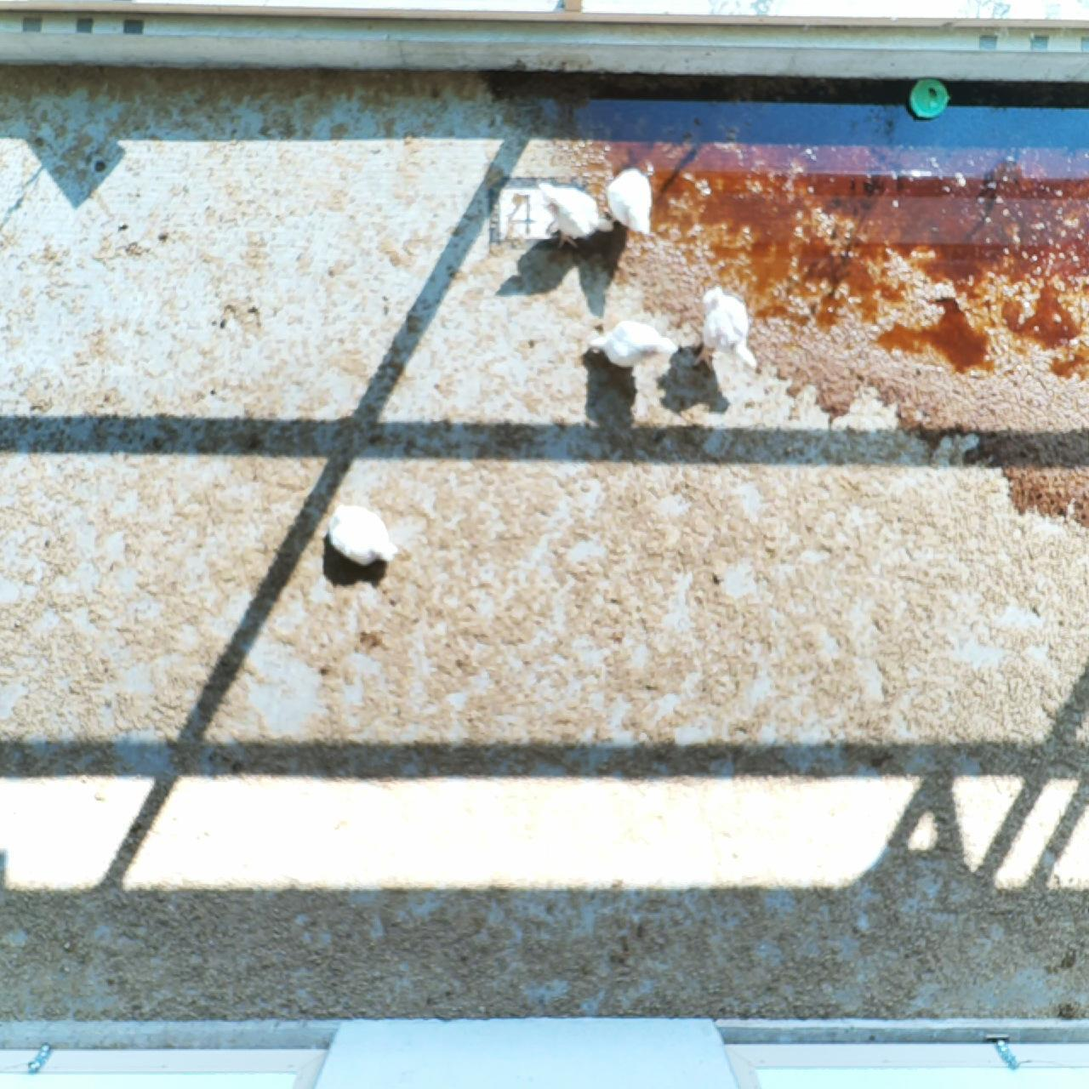chicken: (583, 307, 683, 383), (322, 499, 409, 581), (528, 177, 618, 242), (690, 282, 750, 373), (602, 158, 663, 243)
